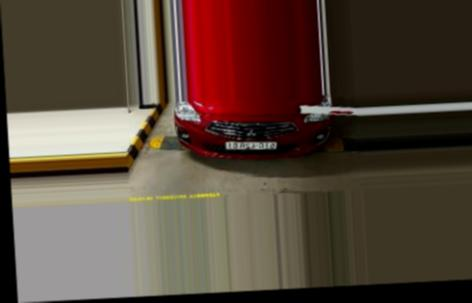License_Plate: (223, 136, 282, 152)
